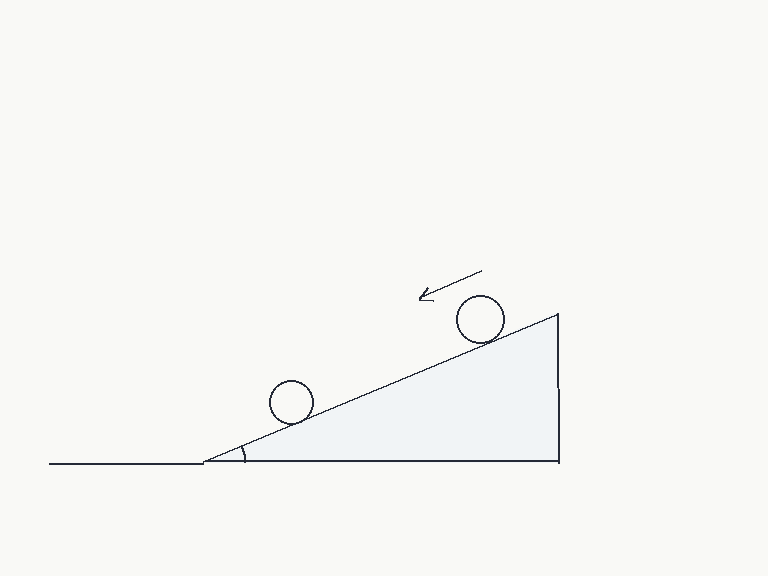ball: (454, 293, 506, 345), (267, 378, 315, 426)
ramp: (203, 310, 560, 464)
